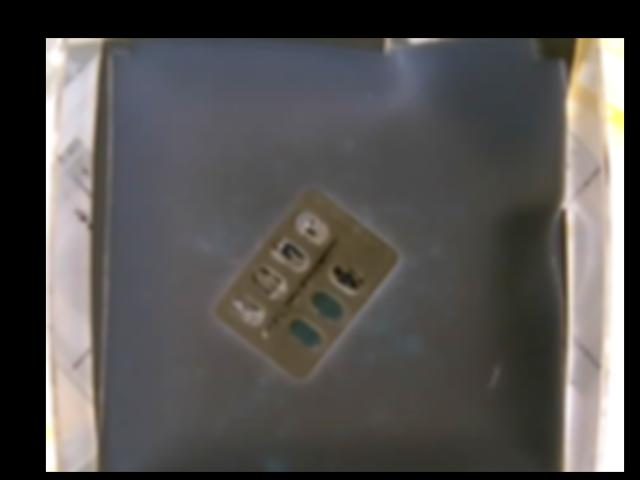Medicine: (217, 178, 400, 380)
